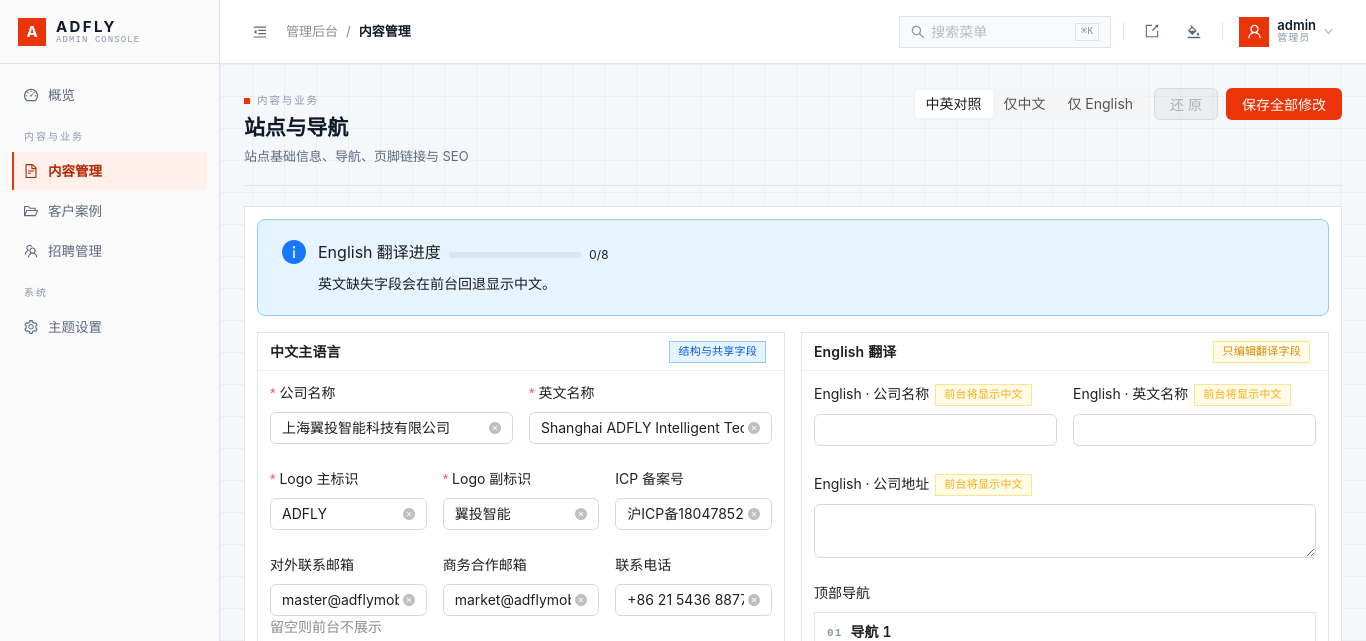
BasicLayout 未保存修改拦截 › B2 有未保存修改时弹出确认框，取消后停留在本页
Replace the text in the field labelled "公司名称" with "改动过的名称". click: (384, 428)
box: [282,417,485,439]
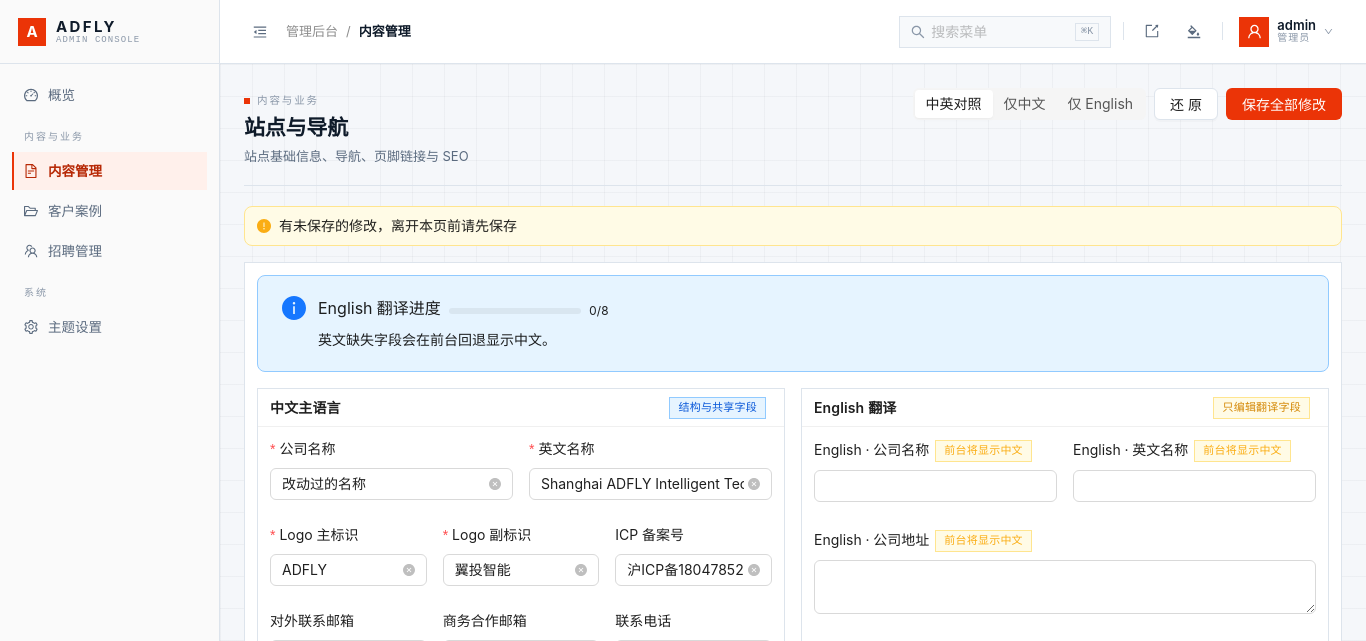
Click the menu item "概览". click: (50, 95)
box: [24,87,75,103]
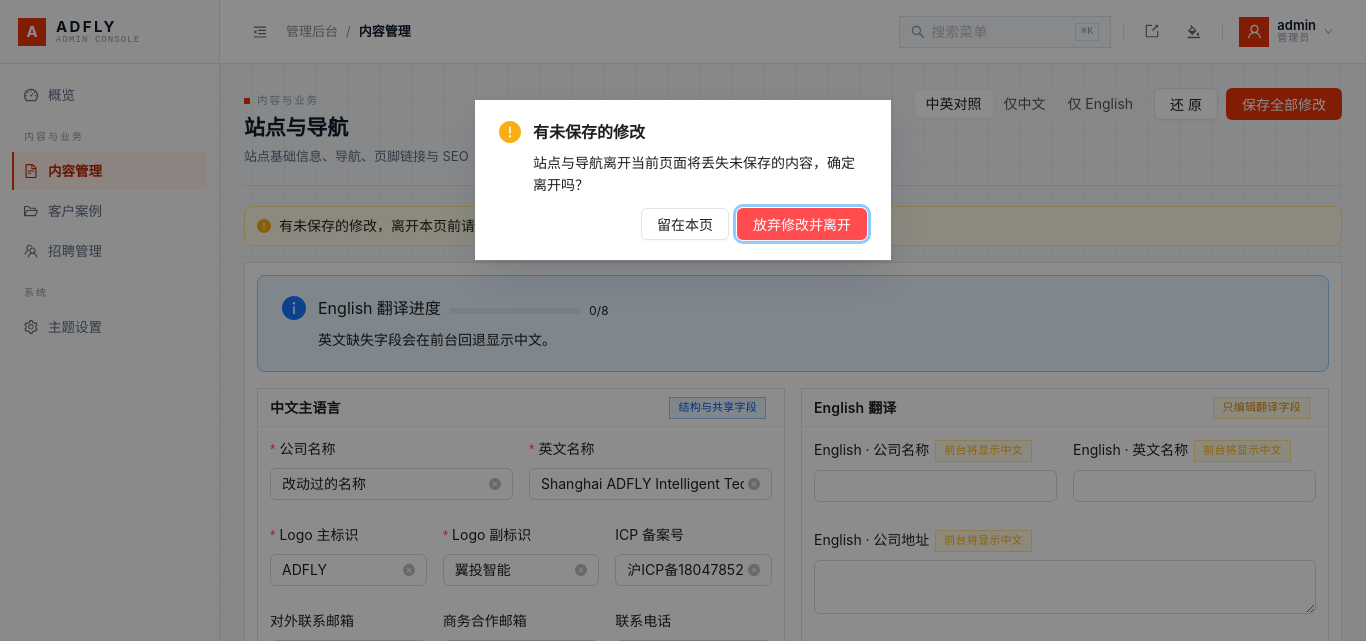
Result: the dialog shows "有未保存的修改" at [533,122,645,142]
Result: the dialog shows "站点与导航离开当前页面将丢失未保存的内容" at [533,154,855,193]
Click the button "留在本页". click: (685, 224)
box: [641,208,729,240]
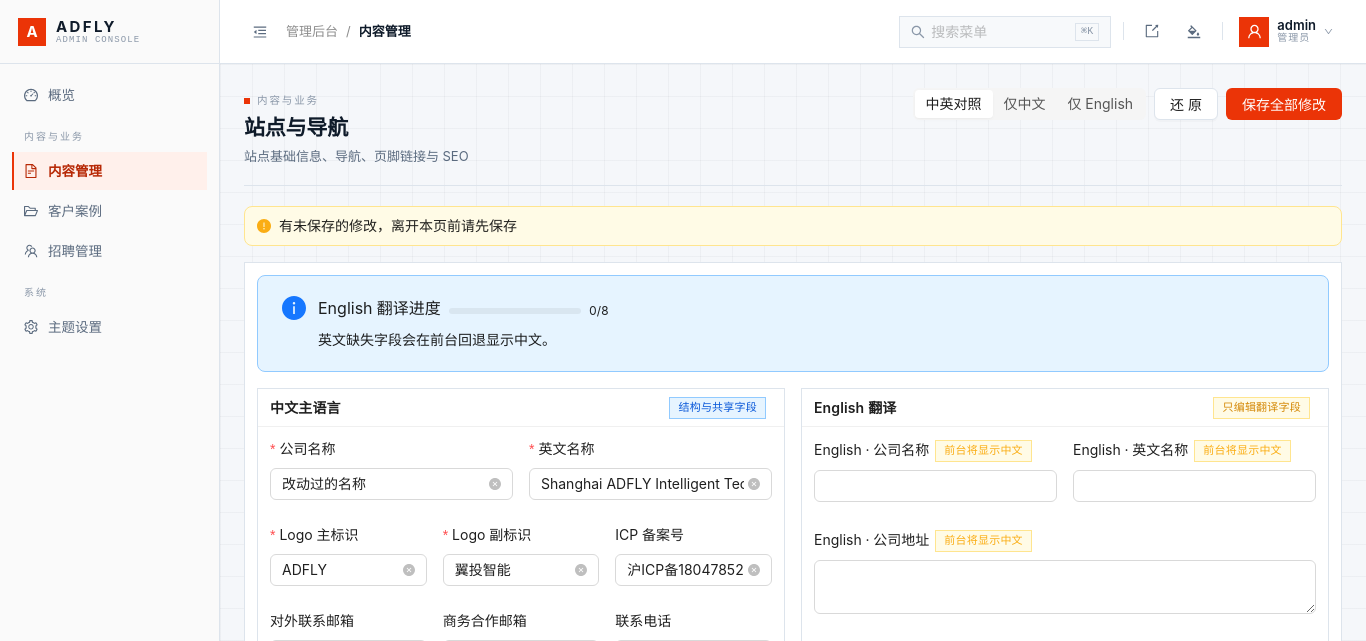
Expected: the heading with test id "page-title" reads "站点与导航", [244,115,348,140]
Result: the dialog is gone
